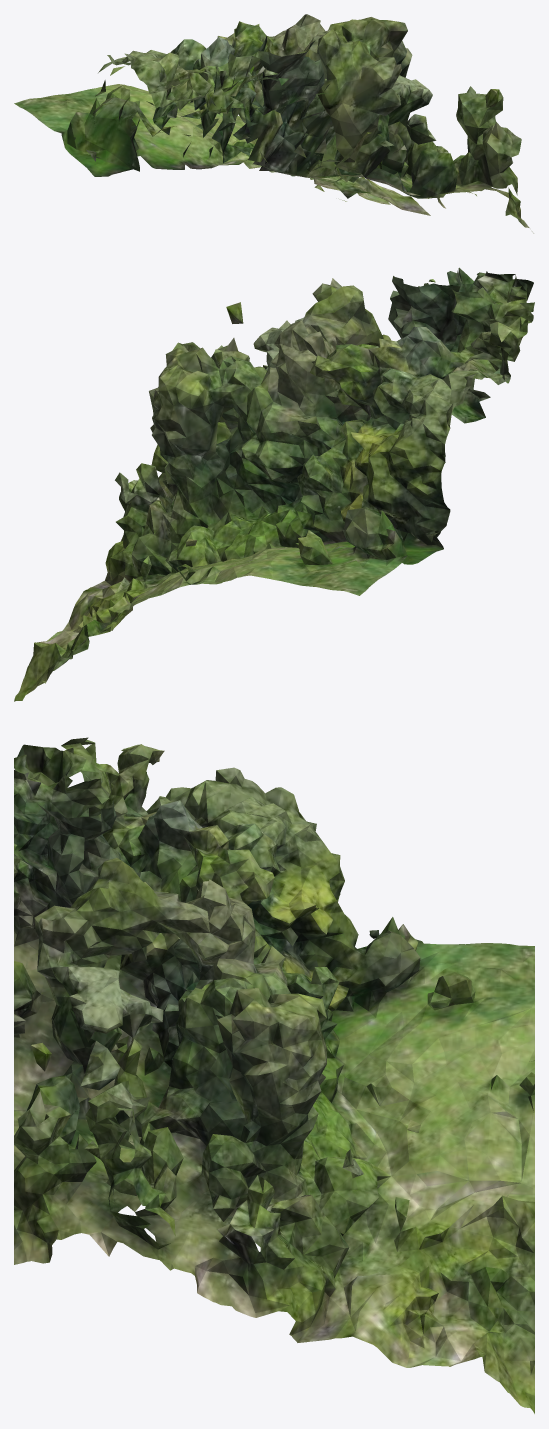
The picture shows the model from 3 angles, top to bottom: view 1: azimuth 30°, elevation 25°; view 2: azimuth 150°, elevation 25°; view 3: azimuth 270°, elevation 25°; orthographic projection. The views are drawn at different scales.
Bounding box in the file's own units: 52.22 × 51.3 × 52.22.
Materials: 8 (8 with a texture image).
